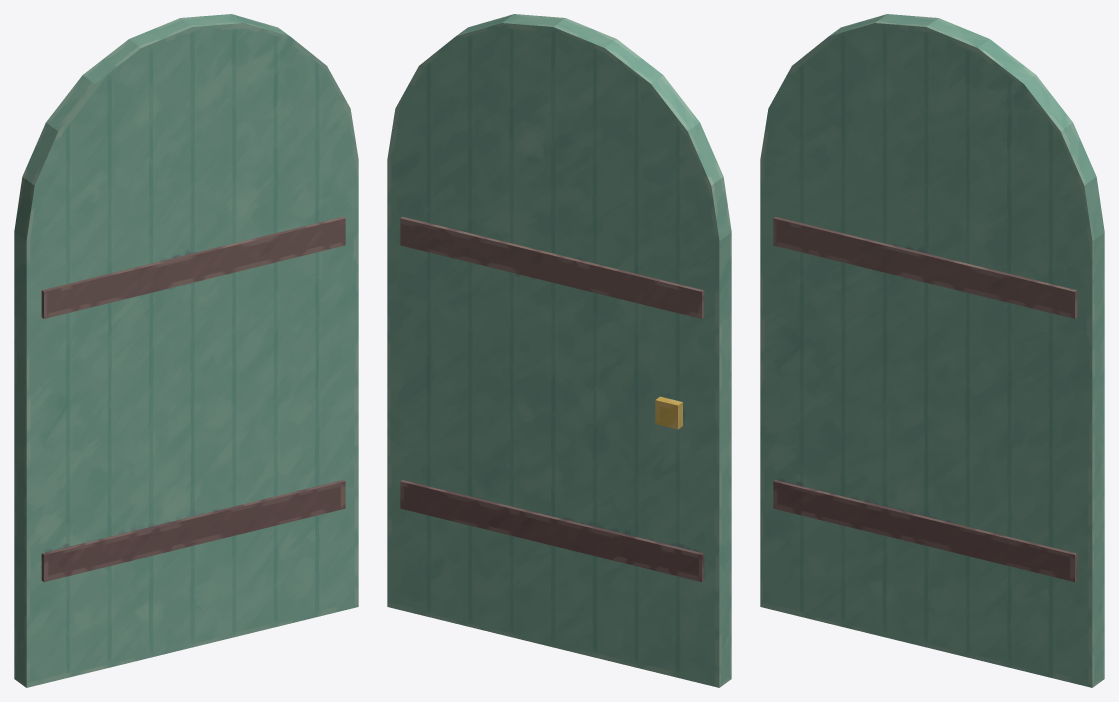
File: door2_teal.fbx
3 views of the same model, side by side, from view 1: azimuth 30°, elevation 25°; view 2: azimuth 150°, elevation 25°; view 3: azimuth 330°, elevation 25° (orthographic).
Visible parts, largest first — view 1: door2_teal; view 2: door2_teal; view 3: door2_teal.
Part boxes in pixels (x1,y1,x2,y2): door2_teal: [14, 14, 358, 687]; door2_teal: [387, 14, 731, 687]; door2_teal: [760, 14, 1104, 687].
Bounding box in the file's own units: 4.36 × 7.78 × 0.49.
Materials: 1 (1 with a texture image).
